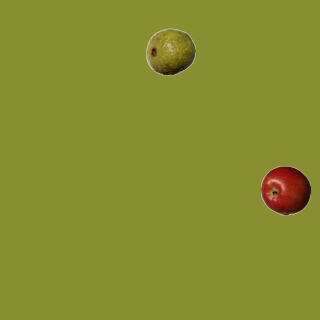Apple Braeburn: (260, 165, 310, 215)
Guava: (145, 26, 195, 76)
